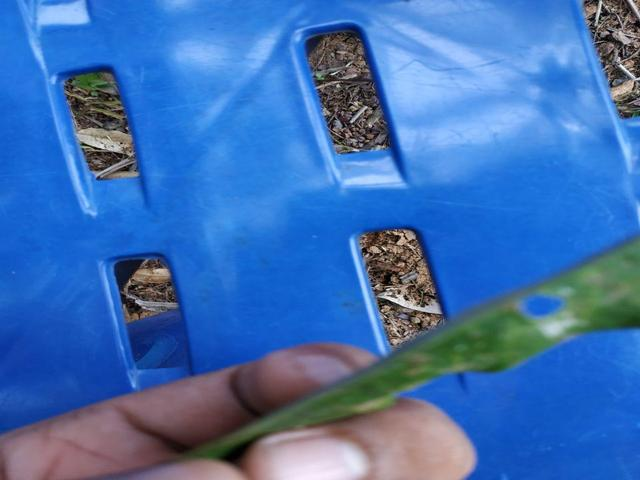blight spot: (510, 286, 568, 327)
